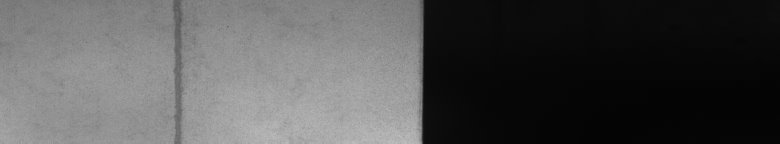hd: (162, 4, 188, 136)
